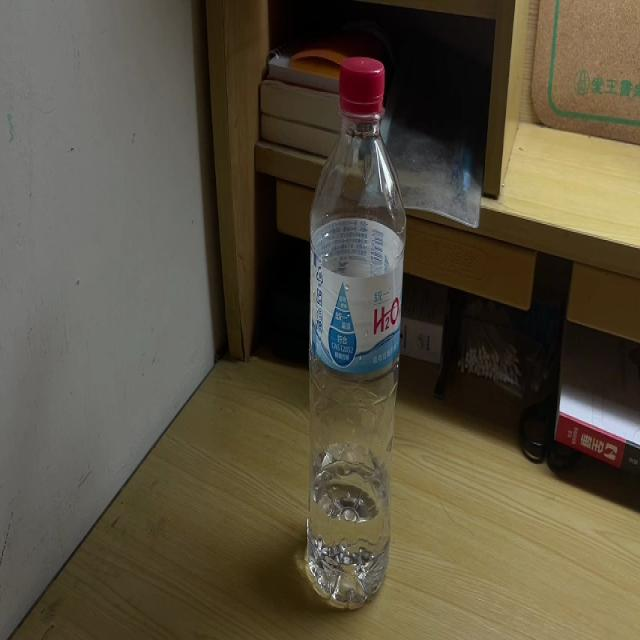Water: (308, 52, 406, 610)
